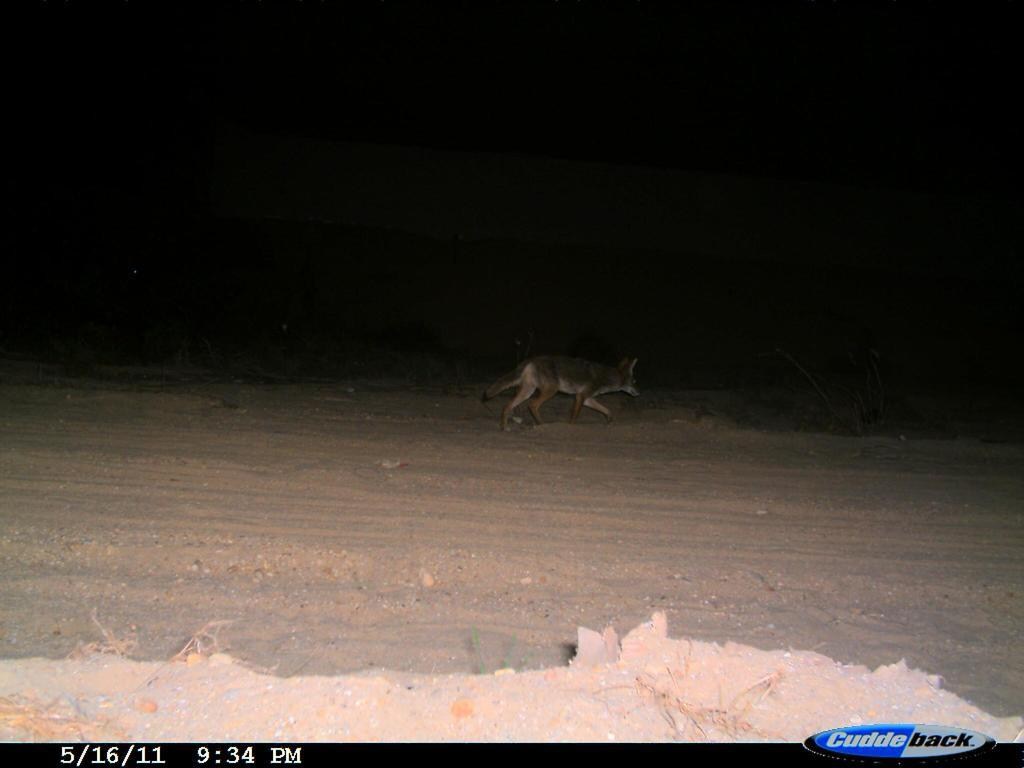coyote: (473, 342, 655, 438)
